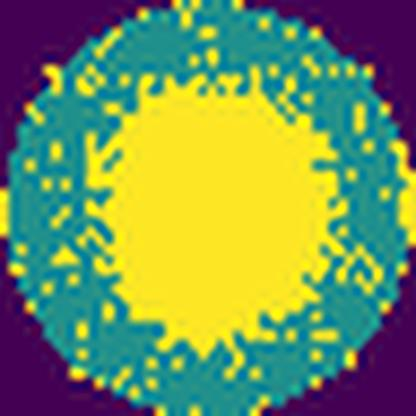Center: (85, 72, 339, 356)
